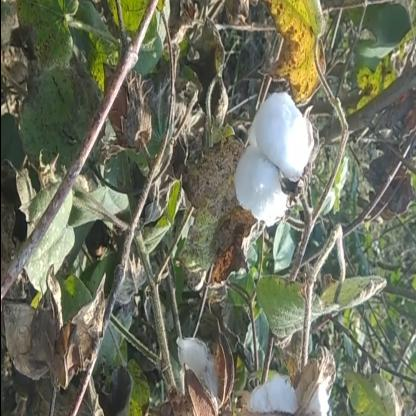cotton_ready: (227, 92, 326, 240)
